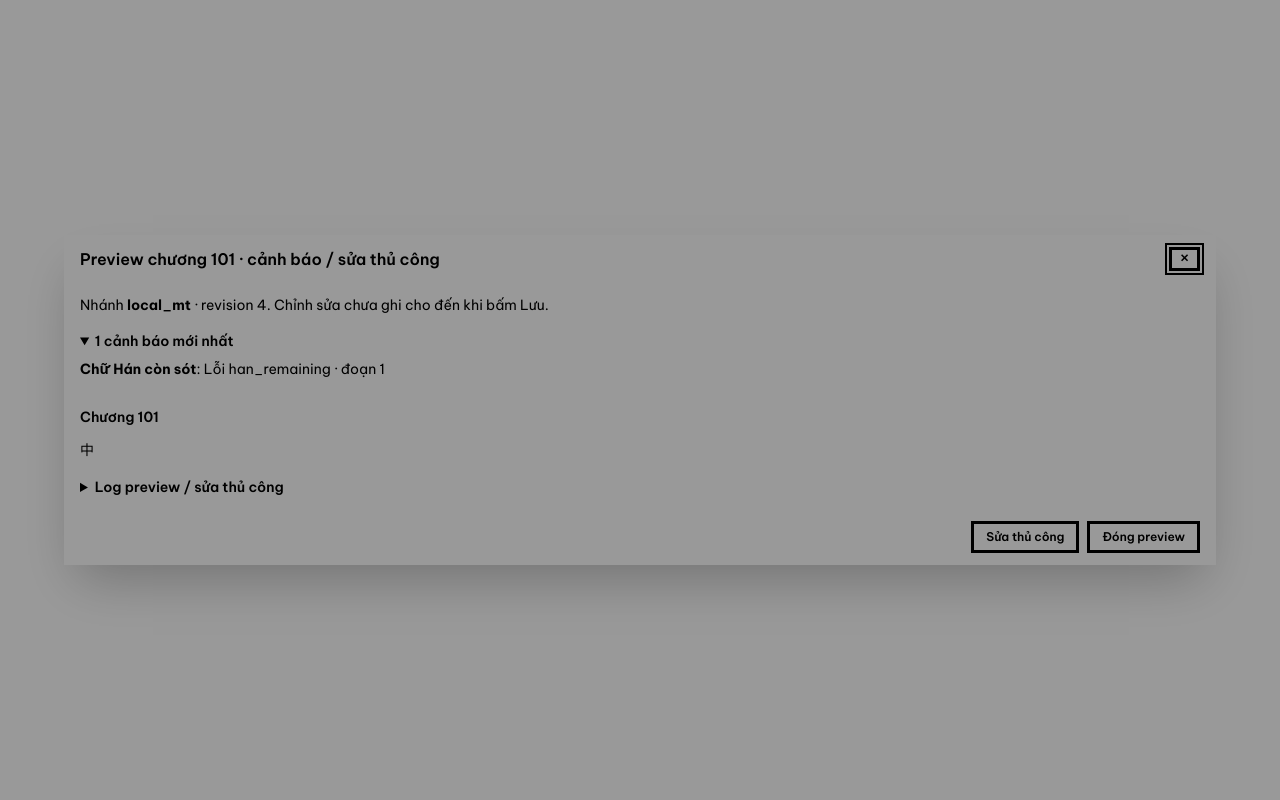
Scenario: scan everything once then filter locally › manual save conflicts keep the user's draft and do not silently retry
Step 1. Click the button "Sửa thủ công" → (1025, 537), box [971,521,1079,553]
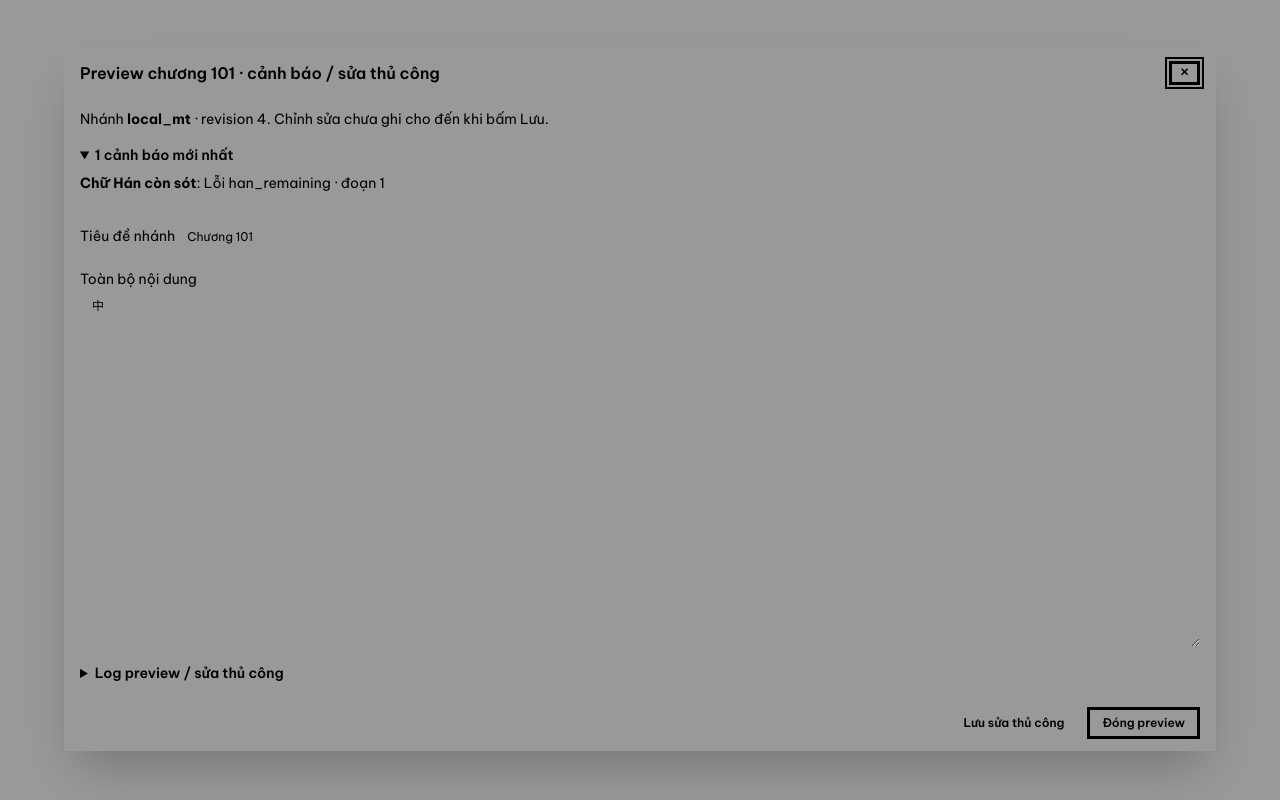
Step 2. Replace the text in the text box named "Nội dung sửa thủ công" with "Bản sửa giữ nguyên" → (640, 468), box [80,289,1200,647]
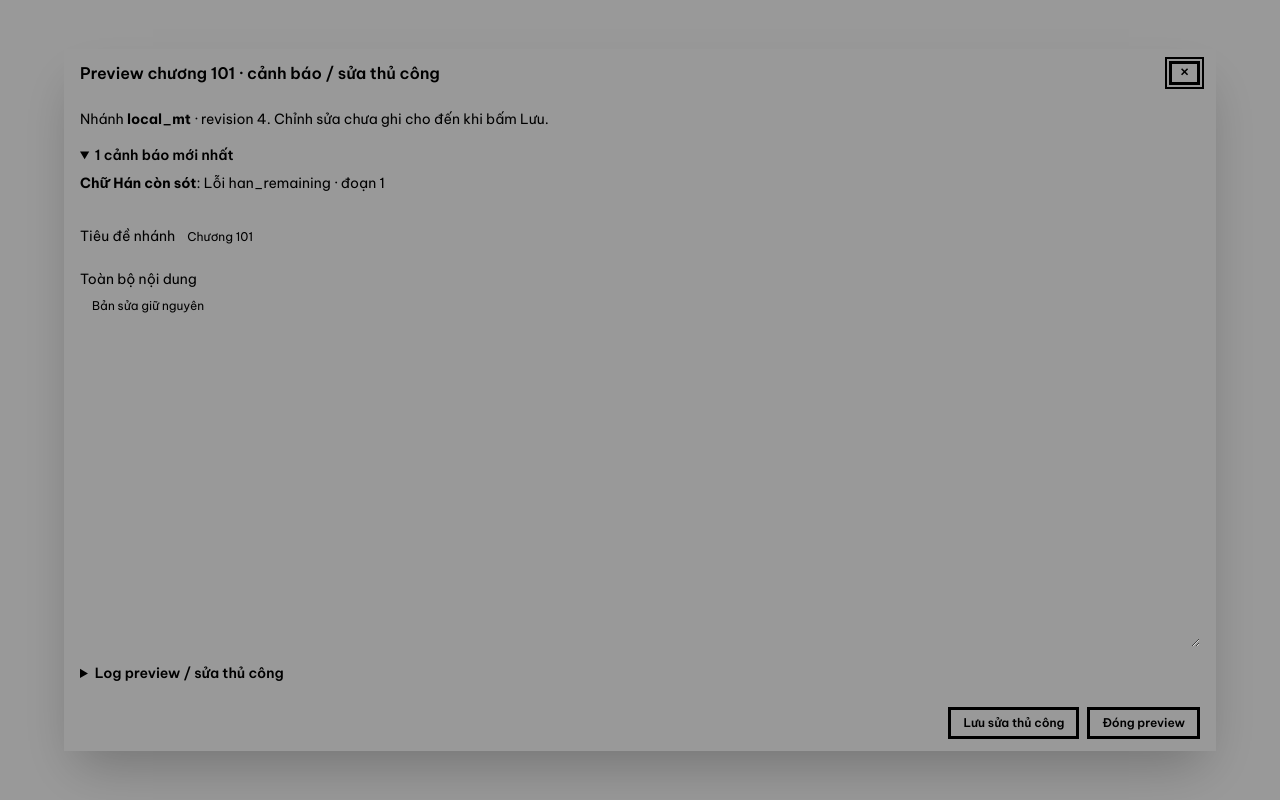
Step 3. Click the button "Lưu sửa thủ công" → (1014, 723), box [948,707,1079,739]
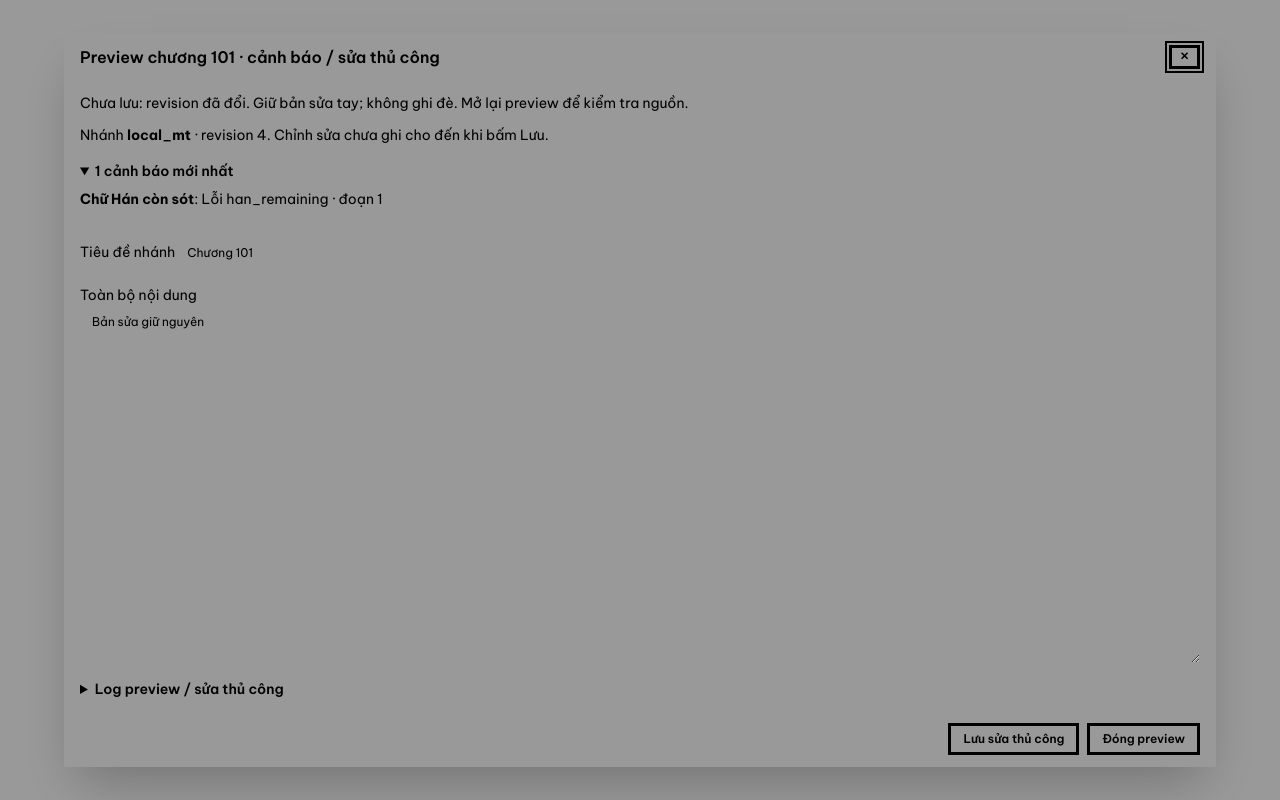
Expected: the text "Chưa lưu: revision đã đổi" is shown, [80,94,688,112]
